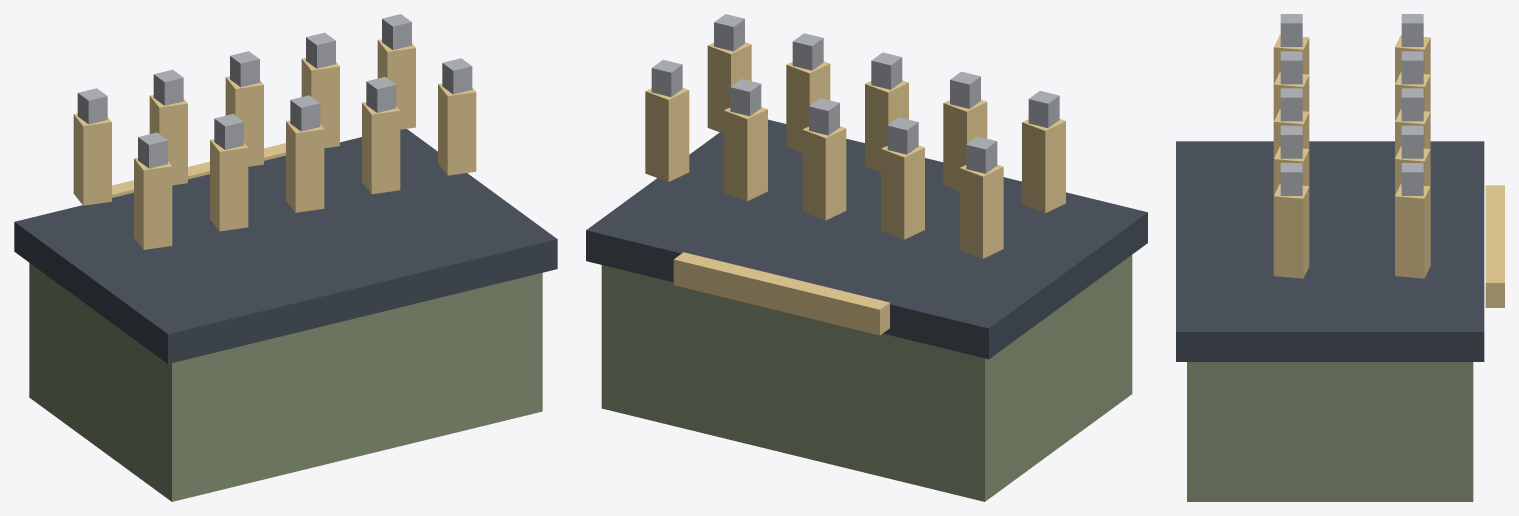
The model's file is loot_ammo_ar.glb.
3 views of the same model, side by side, from view 1: azimuth 30°, elevation 25°; view 2: azimuth 150°, elevation 25°; view 3: azimuth 270°, elevation 25° (orthographic). The views are drawn at different scales.
Parts seen in each view (by area): view 1: ammo_box, box_lid, round (×10), round_tip (×10), label; view 2: ammo_box, box_lid, round (×10), round_tip (×10), label; view 3: box_lid, ammo_box, round (×10), round_tip (×10), label.
Part boxes in pixels (x1,y1,x2,y2): ammo_box: (29,263,542,501); box_lid: (14,129,557,363); round (×10): (73,39,476,249); round_tip (×10): (77,14,472,168); label: (112,143,285,197); ammo_box: (601,255,1132,501); box_lid: (586,119,1147,359); round (×10): (645,42,1065,258); round_tip (×10): (651,14,1059,173); label: (673,252,889,335); box_lid: (1176,141,1484,361); ammo_box: (1187,362,1473,501); round (×10): (1273,35,1430,278); round_tip (×10): (1280,14,1423,195); label: (1485,185,1504,307).
Size of the model in its own units: 0.82 by 0.6375 by 0.5975.
